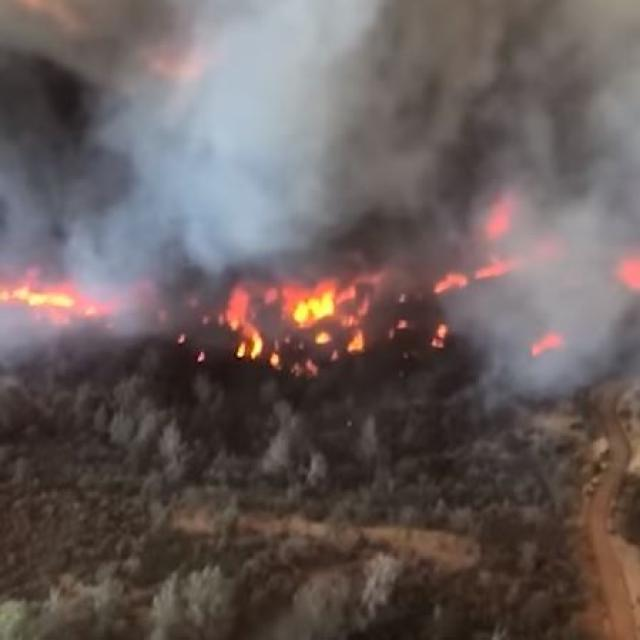Fire: (202, 282, 266, 360), (0, 264, 87, 317), (282, 263, 356, 320), (418, 259, 524, 298), (307, 322, 378, 357), (480, 197, 518, 244), (526, 329, 578, 362), (412, 319, 457, 351), (268, 347, 314, 378), (614, 247, 640, 298)
Smoke: (5, 0, 640, 399)
